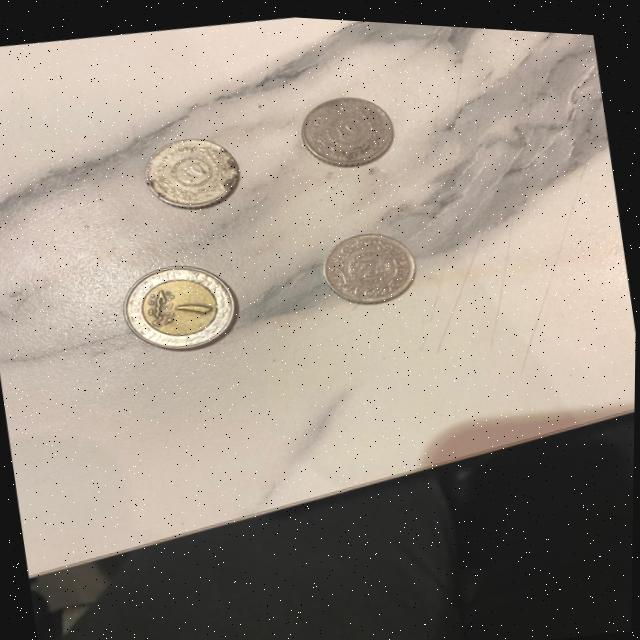One Pound: (122, 254, 248, 357)
quarter pound: (312, 207, 422, 318), (294, 82, 400, 173), (139, 127, 244, 215)
